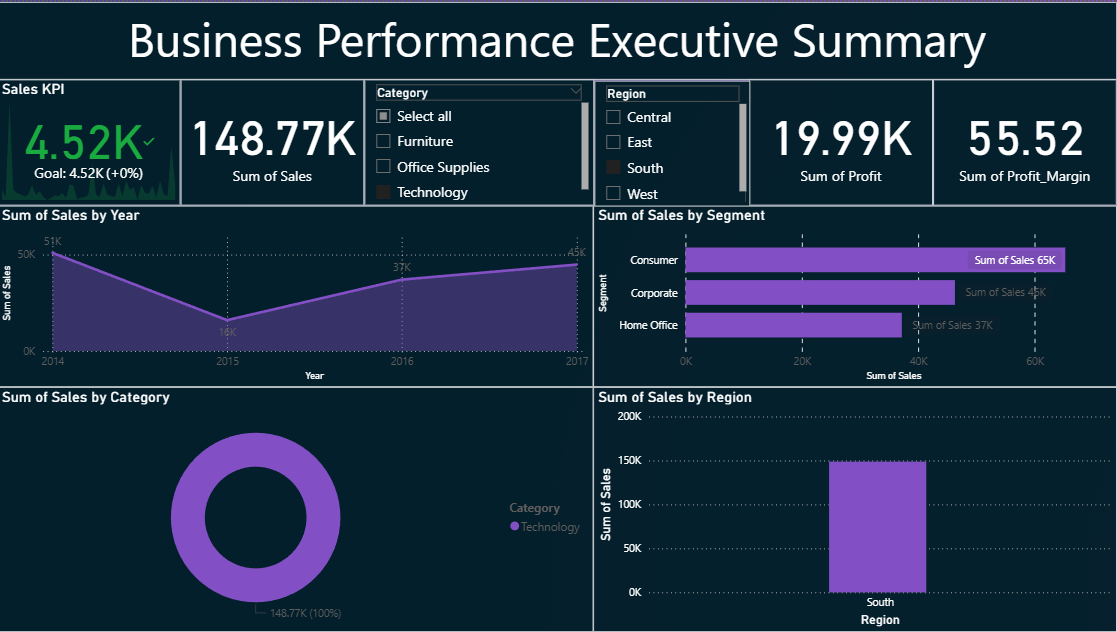

The page's visual inventory and layout, read from the dashboard file:
{"tool":"powerbi","page":{"name":"Page 1","canvas":[1280,720],"ordinal":0},"visuals":[{"type":"lineChart","fields":{"Category":["Superstore_clean.MonthYear.Variation.Date Hierarchy.Year","Superstore_clean.MonthYear.Variation.Date Hierarchy.Quarter","Superstore_clean.MonthYear.Variation.Date Hierarchy.Month","Superstore_clean.MonthYear.Variation.Date Hierarchy.Day"],"Y":["Sum(Superstore_clean.Sales)"]},"box":[0,233.3,682,207.2],"z":0},{"type":"clusteredColumnChart","fields":{"Category":["Superstore_clean.Region"],"Y":["Sum(Superstore_clean.Sales)"]},"box":[682,440.5,598.3,279.9],"z":1000},{"type":"donutChart","fields":{"Category":["Superstore_clean.Category"],"Y":["Sum(Superstore_clean.Sales)"]},"box":[0,440.5,682,279.9],"z":2000},{"type":"kpi","title":"Sales KPI","fields":{"Indicator":["Sum(Superstore_clean.Sales)"],"TrendLine":["Superstore_clean.YearMonth"],"Goal":["Sum(Superstore_clean.Sales)"]},"box":[0,89.2,209.9,144.1],"z":3000},{"type":"slicer","fields":{"Values":["Superstore_clean.Region"]},"box":[682.9,89.6,179.1,144.3],"z":4000},{"type":"slicer","fields":{"Values":["Superstore_clean.Category"]},"box":[419.9,89.2,262.1,144.1],"z":5000},{"type":"card","fields":{"Values":["Sum(Superstore_clean.Sales)"]},"box":[209.9,89.2,209.9,144.1],"z":6000},{"type":"card","fields":{"Values":["Sum(Superstore_clean.Profit)"]},"box":[860.4,89.2,209.9,144.1],"z":7000},{"type":"card","fields":{"Values":["Sum(Superstore_clean.Profit_Margin)"]},"box":[1070.3,89.2,209.9,144.1],"z":8000},{"type":"clusteredBarChart","fields":{"Category":["Superstore_clean.Segment"],"Y":["Sum(Superstore_clean.Sales)"]},"box":[682,233.3,598.3,207.2],"z":9000},{"type":"textbox","box":[0,0,1280.3,89.2],"z":10000}]}

Visuals, with their boxes in screenshot pixels (x1, y1, x2, y2), scaled from the page's 1280x720 canvas onto the 1117x632 screenshot:
lineChart - Superstore_clean.MonthYear.Variation.Date Hierarchy.Year x Superstore_clean.MonthYear.Variation.Date Hierarchy.Quarter: (0, 205, 595, 387)
clusteredColumnChart - Superstore_clean.Region x Sum(Superstore_clean.Sales): (595, 387, 1116, 631)
donutChart - Superstore_clean.Category x Sum(Superstore_clean.Sales): (0, 387, 595, 631)
"Sales KPI" kpi: (0, 78, 183, 205)
slicer - Superstore_clean.Region: (596, 79, 752, 205)
slicer - Superstore_clean.Category: (366, 78, 595, 205)
card - Sum(Superstore_clean.Sales): (183, 78, 366, 205)
card - Sum(Superstore_clean.Profit): (751, 78, 934, 205)
card - Sum(Superstore_clean.Profit_Margin): (934, 78, 1116, 205)
clusteredBarChart - Superstore_clean.Segment x Sum(Superstore_clean.Sales): (595, 205, 1116, 387)
textbox: (0, 0, 1116, 78)
